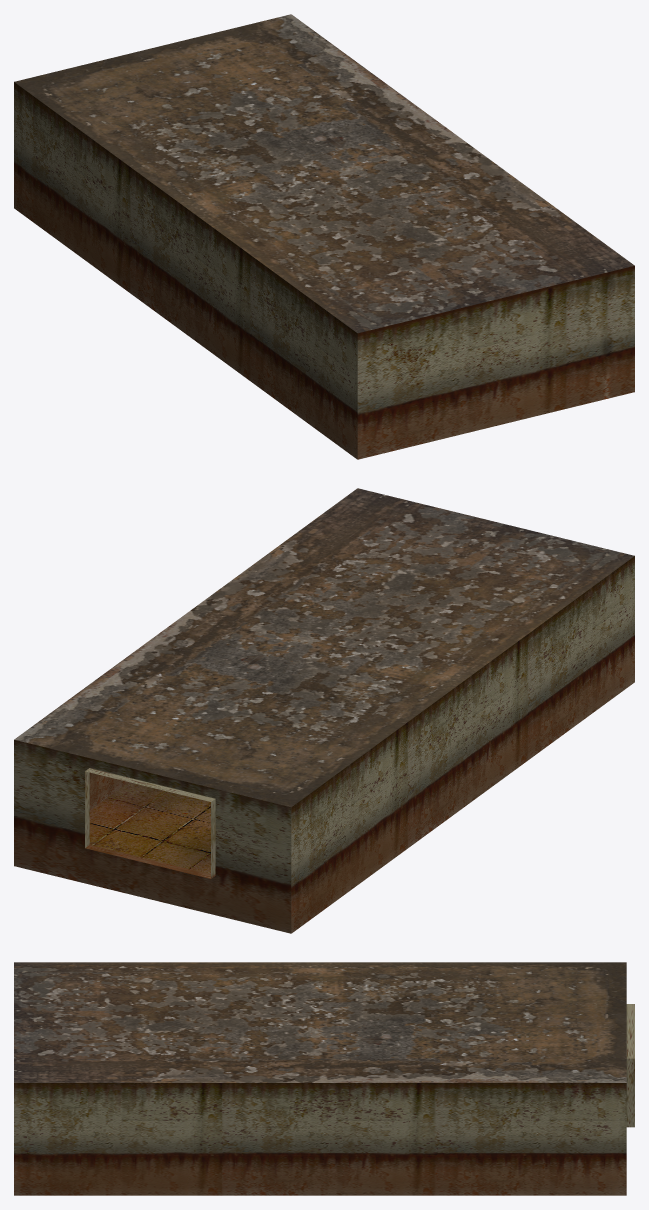
File: MedicalRoomStretched.fbx
The picture shows the model from 3 angles, top to bottom: view 1: azimuth 30°, elevation 25°; view 2: azimuth 150°, elevation 25°; view 3: azimuth 270°, elevation 25°; orthographic projection. The views are drawn at different scales.
Visible parts, largest first — view 1: Plane; view 2: Plane; view 3: Plane.
Part boxes in pixels (x1,y1,x2,y2): Plane: (14, 14, 634, 459); Plane: (14, 488, 634, 933); Plane: (14, 962, 634, 1195).
Size of the model in its own units: 735 by 320 by 1598.
